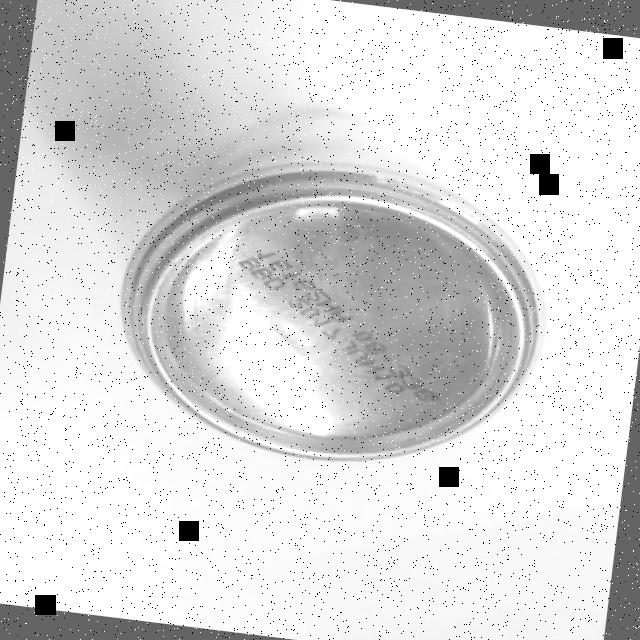can: (101, 82, 568, 489)
